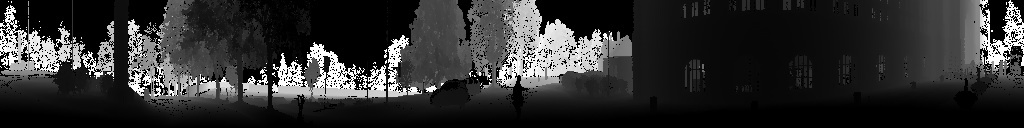car: (429, 79, 470, 110), (456, 78, 483, 96)
person: (512, 75, 523, 127), (536, 77, 542, 88), (143, 87, 146, 101), (146, 87, 149, 101)
